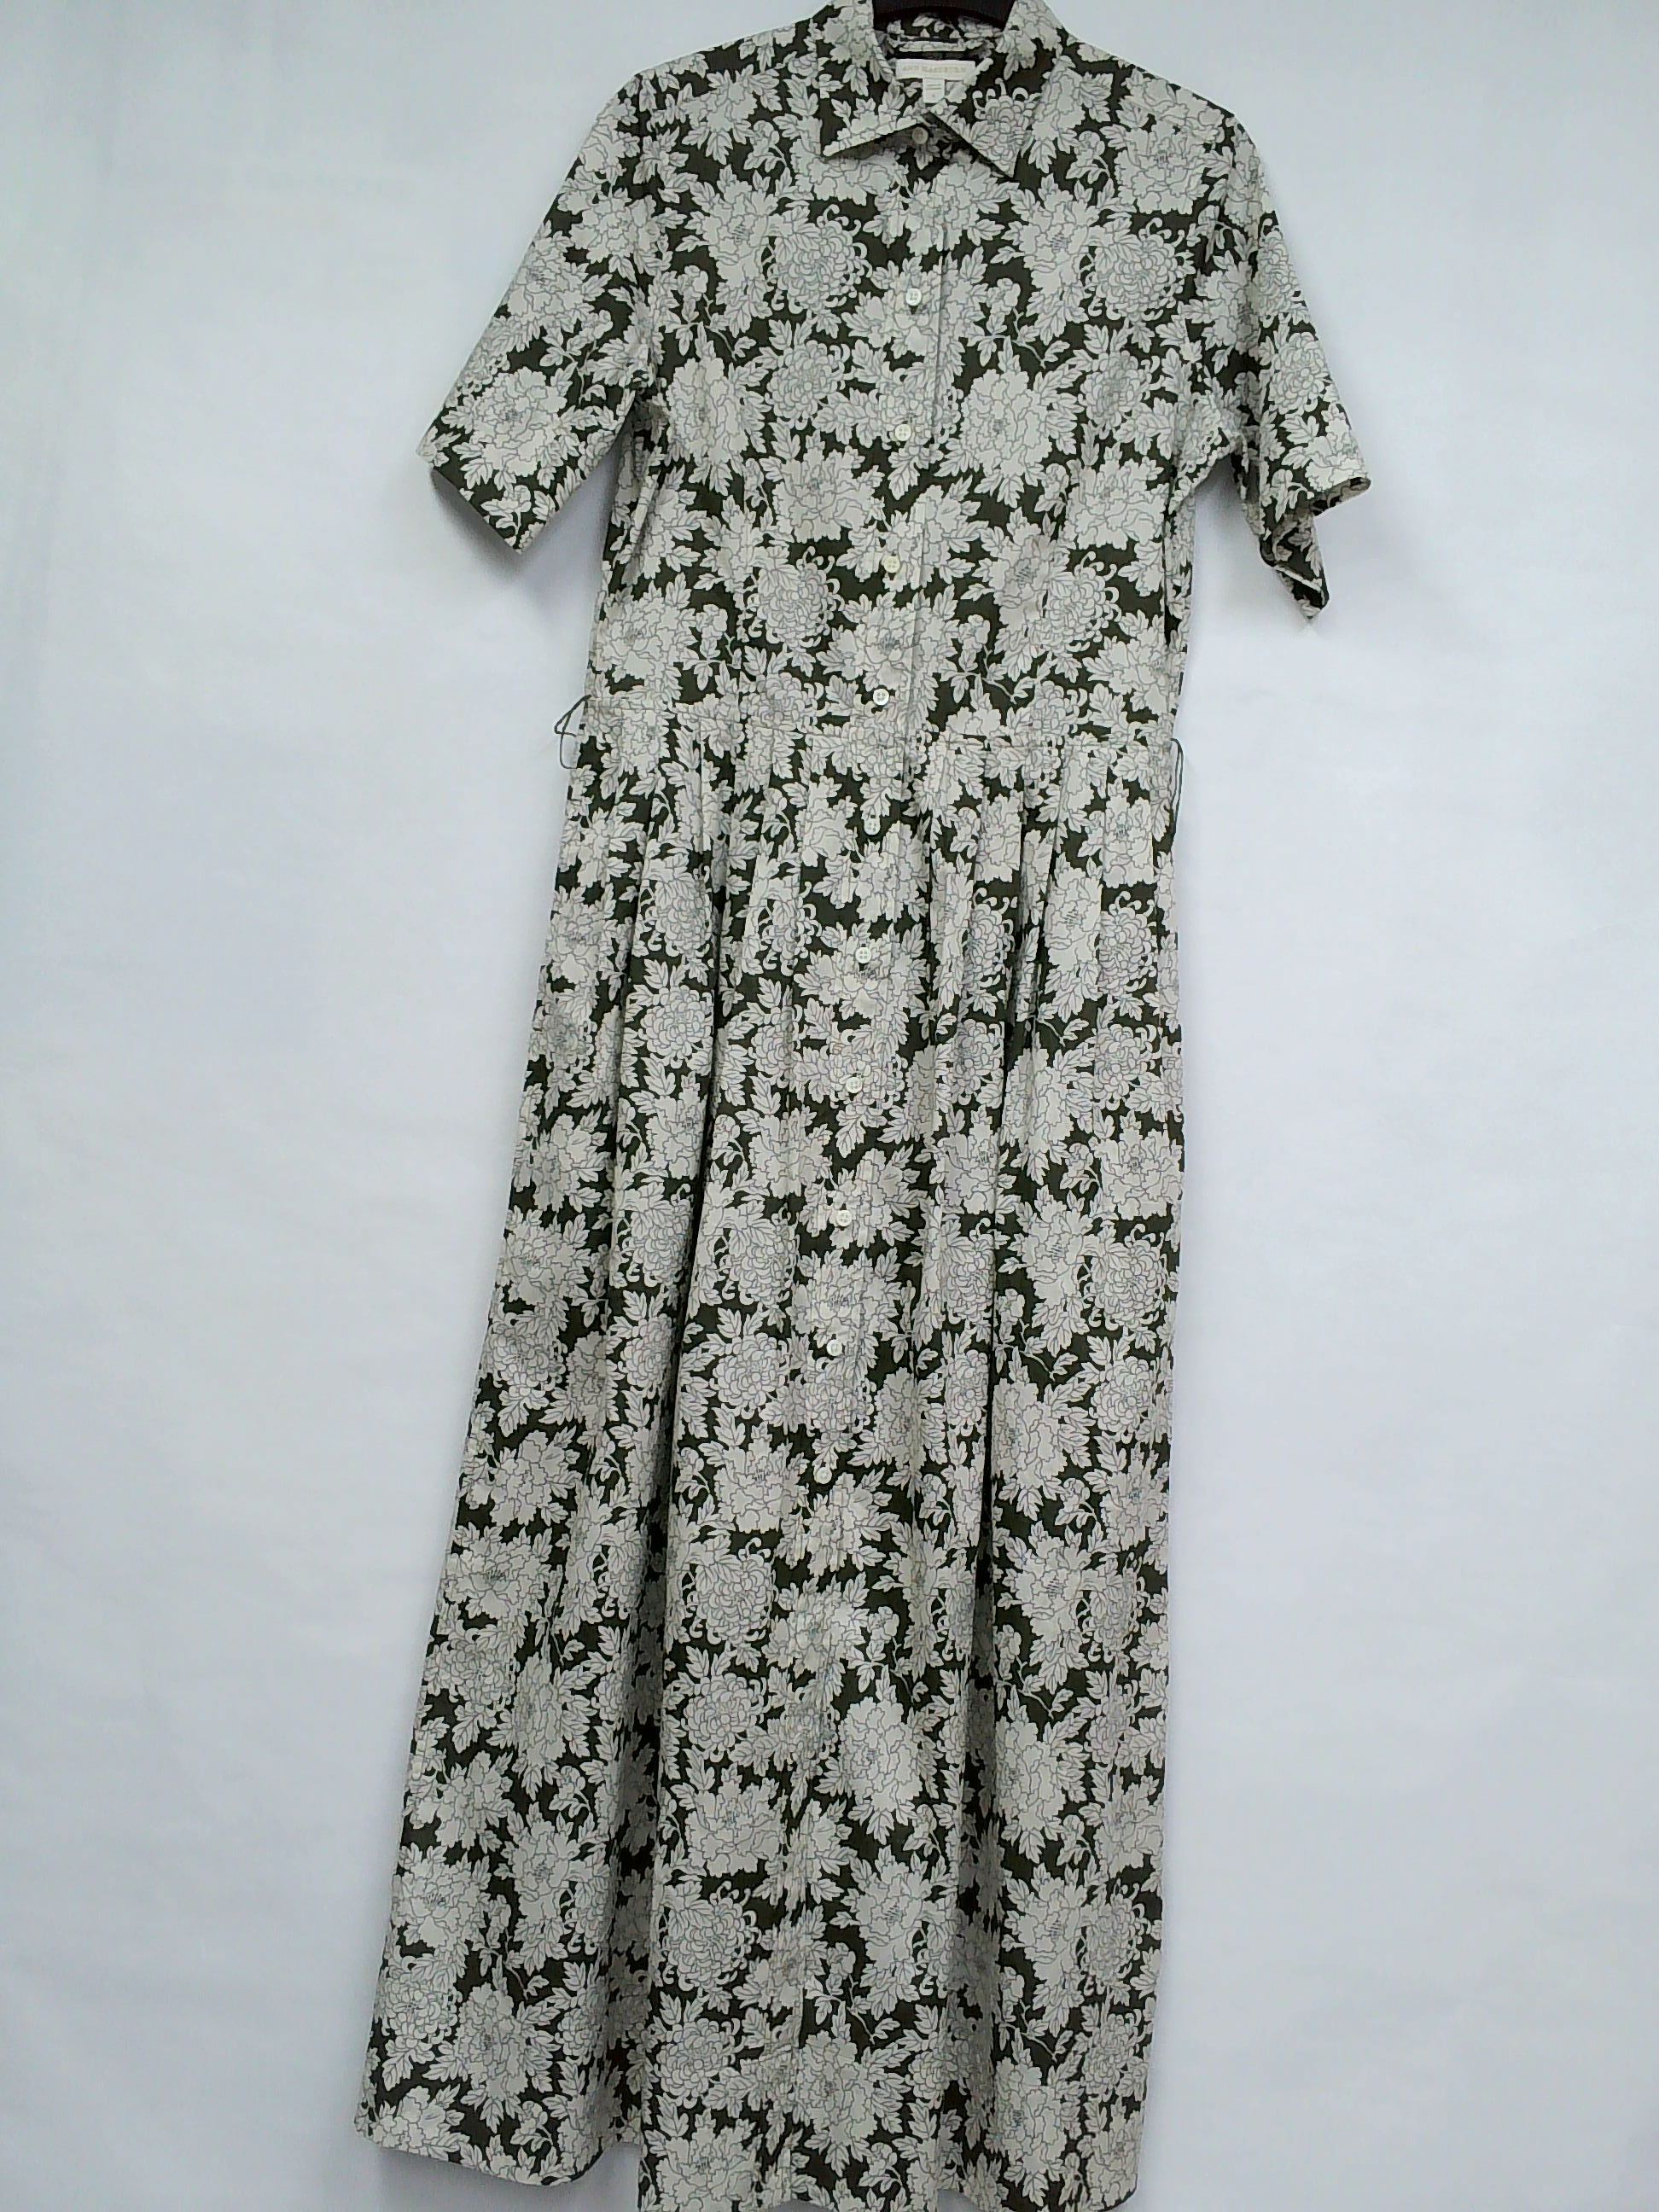seam: (580, 669, 694, 732)
